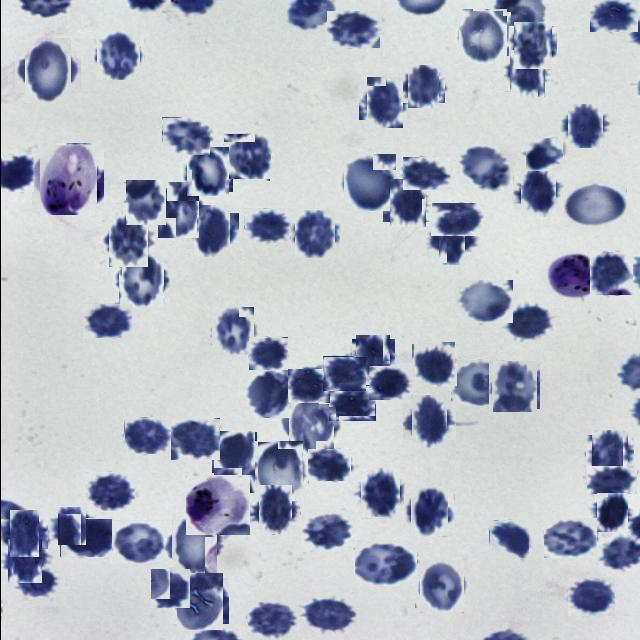difficult: (34, 146, 100, 212), (185, 476, 249, 535), (544, 255, 599, 301)
red blood cell: (19, 42, 75, 98), (341, 154, 397, 210), (250, 444, 306, 499), (284, 398, 338, 452), (166, 518, 220, 572), (562, 182, 626, 227), (354, 540, 416, 586), (456, 10, 508, 62), (173, 575, 225, 627), (116, 254, 166, 304), (454, 280, 512, 323), (450, 360, 504, 406), (416, 562, 466, 611), (458, 144, 512, 189), (152, 186, 202, 234), (110, 520, 164, 564), (490, 362, 538, 410), (300, 510, 354, 552), (104, 216, 151, 264), (223, 134, 270, 180), (244, 371, 290, 418), (543, 518, 596, 558), (95, 32, 141, 78), (184, 148, 230, 194), (210, 308, 256, 354), (169, 418, 219, 460), (300, 598, 358, 634), (59, 518, 111, 557), (406, 490, 451, 534), (357, 472, 402, 516), (406, 400, 451, 444), (326, 11, 379, 48), (292, 212, 336, 256), (362, 80, 406, 124), (588, 252, 632, 296), (85, 472, 134, 511), (246, 601, 296, 639), (190, 209, 233, 253), (516, 170, 559, 214), (212, 431, 255, 474), (253, 489, 296, 532), (124, 180, 167, 223), (412, 344, 456, 386), (504, 304, 552, 342), (161, 117, 209, 155), (386, 182, 428, 225), (511, 24, 554, 66), (430, 202, 483, 236), (567, 578, 614, 616), (122, 417, 170, 454), (588, 432, 630, 474), (82, 303, 132, 338), (327, 385, 375, 421), (506, 54, 548, 94), (564, 106, 604, 146), (149, 568, 189, 608), (402, 157, 450, 190), (243, 208, 288, 243), (589, 0, 637, 32), (354, 336, 392, 376), (488, 520, 528, 558), (322, 356, 365, 391), (368, 366, 412, 400), (5, 542, 44, 580), (306, 448, 350, 481), (432, 222, 470, 260), (287, 369, 329, 403), (404, 68, 441, 106), (5, 515, 42, 553), (586, 466, 636, 494), (247, 337, 287, 370), (526, 138, 564, 171), (16, 568, 56, 599), (594, 496, 630, 530), (0, 155, 33, 192), (54, 509, 88, 544)
